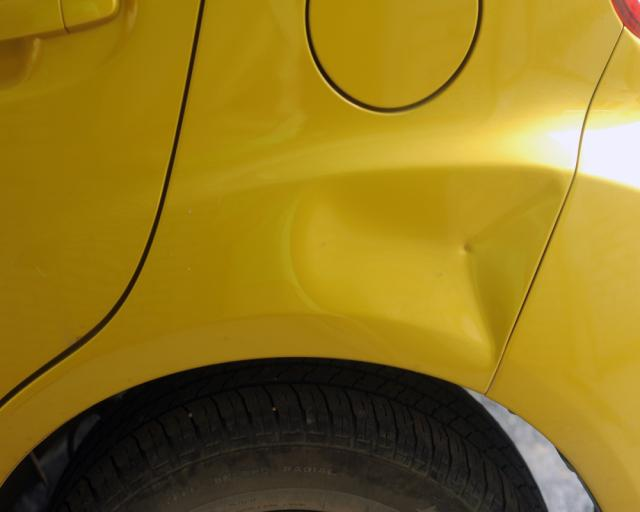dent: (298, 166, 561, 375)
